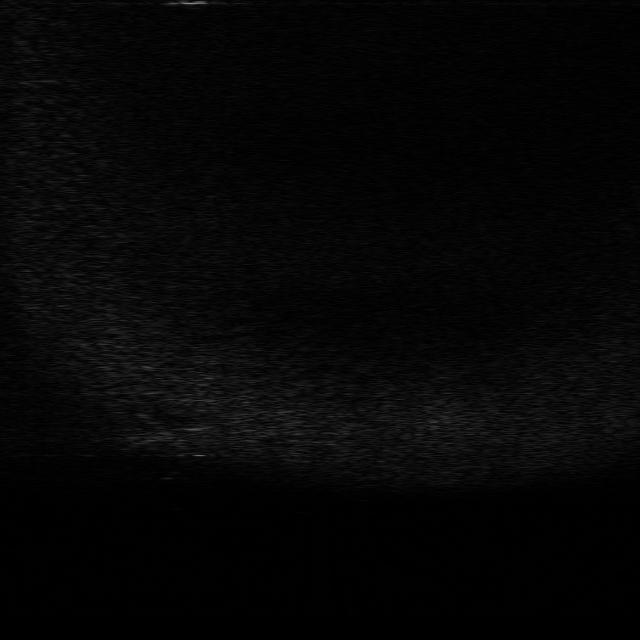plane: (108, 408, 210, 460)
